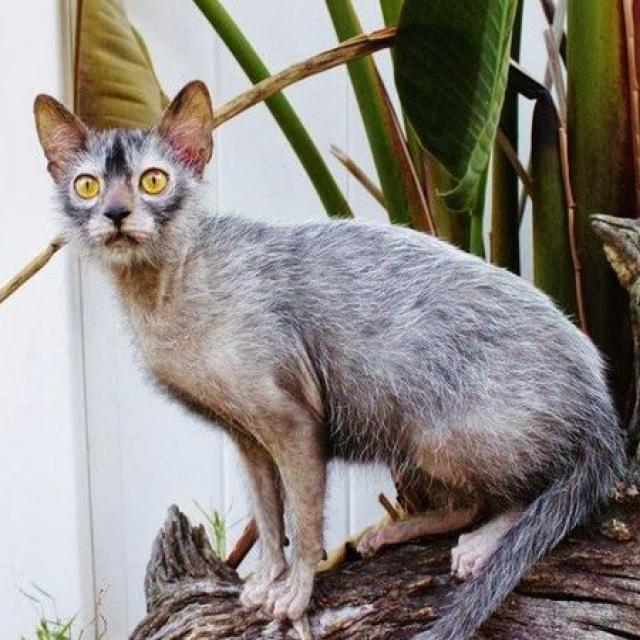Lykoi: (28, 74, 626, 640)
